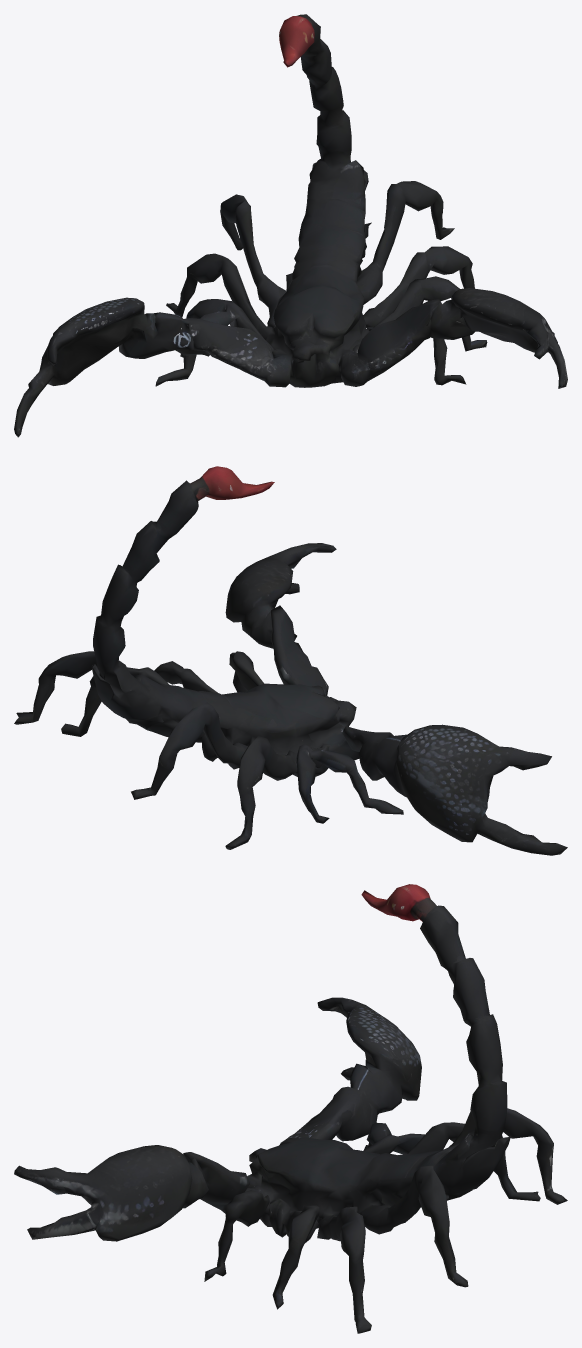
Rendered from Scorpion.obj.
3 renders of one model, top to bottom at view 1: azimuth 30°, elevation 25°; view 2: azimuth 150°, elevation 25°; view 3: azimuth 270°, elevation 25°, orthographic. The views are drawn at different scales.
Parts seen in each view (by area): view 1: tripo_node_5faa4b0d; view 2: tripo_node_5faa4b0d; view 3: tripo_node_5faa4b0d.
Boxes of the visible parts, <box> form: tripo_node_5faa4b0d: <box>14,14,567,437</box>; tripo_node_5faa4b0d: <box>14,466,567,855</box>; tripo_node_5faa4b0d: <box>14,884,567,1333</box>.
Bounding box in the file's own units: 10.01 × 6.34 × 8.79.
1 material, 1 textured.
